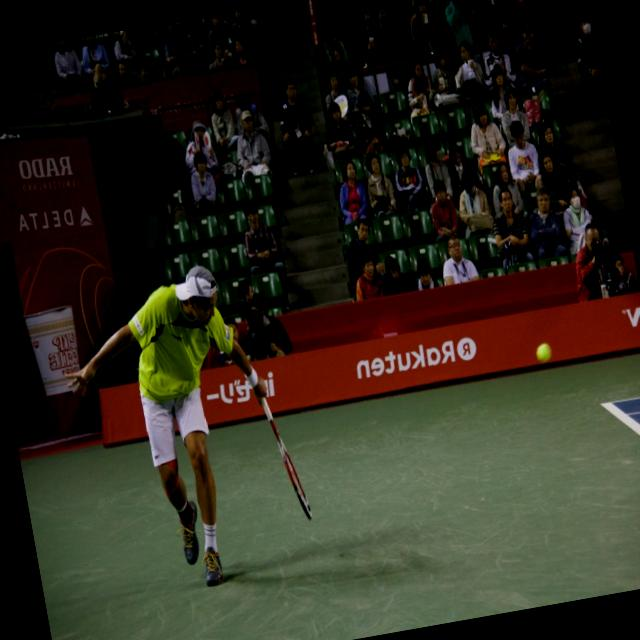Tennis Ball: (535, 342, 552, 364)
